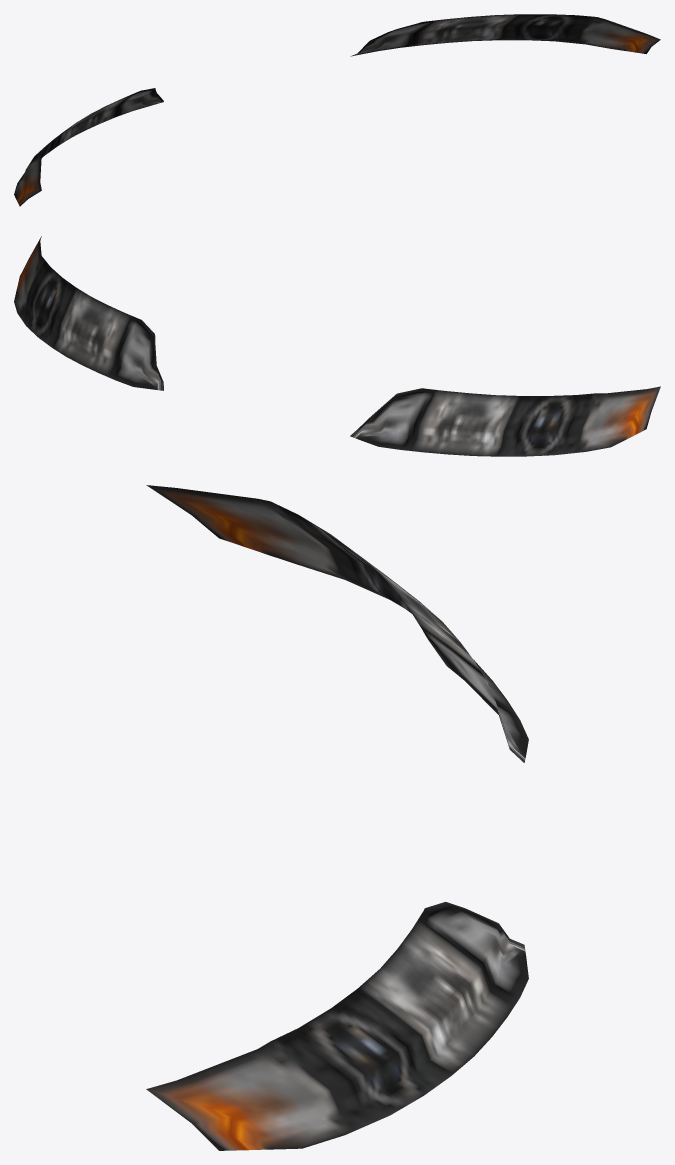
The model's file is liftback_95_lens_head.obj.
3 views of the same model, one above another, from view 1: azimuth 30°, elevation 25°; view 2: azimuth 150°, elevation 25°; view 3: azimuth 270°, elevation 25° (orthographic). The views are drawn at different scales.
Visible parts, largest first — view 1: liftback_95_lens_head; view 2: liftback_95_lens_head; view 3: liftback_95_lens_head.
Part boxes in pixels (x1,y1,x2,y2): liftback_95_lens_head: [14, 14, 660, 206]; liftback_95_lens_head: [14, 236, 660, 456]; liftback_95_lens_head: [146, 485, 528, 1150].
Bounding box in the file's own units: 1.58 × 0.1054 × 0.4171.
Materials: 1 (1 with a texture image).
